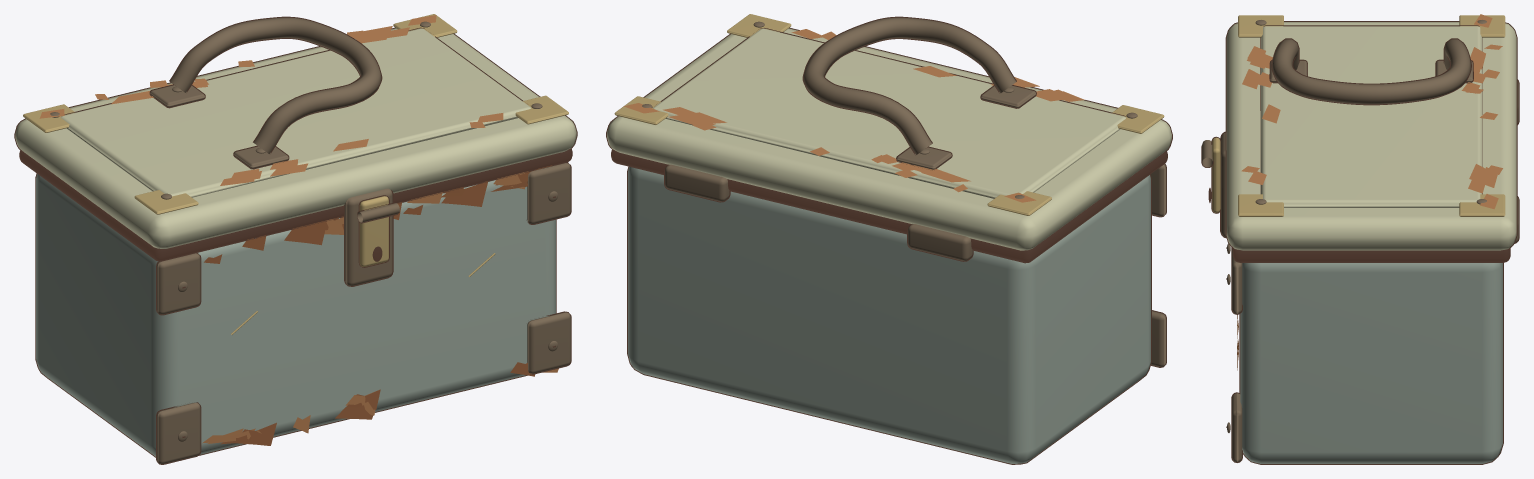
File: prop_10005.glb
3 renders of one model, left to right at view 1: azimuth 30°, elevation 25°; view 2: azimuth 150°, elevation 25°; view 3: azimuth 270°, elevation 25°, orthographic.
Parts seen in each view (by area): view 1: Surface_steel.002, Surface_lid.002, Surface_edge.003, Surface_ink.004, Surface_brass.002, Surface_rustlight.002, Surface_rust.002; view 2: Surface_steel.002, Surface_lid.002, Surface_edge.003, Surface_ink.004, Surface_brass.002, Surface_rustlight.002; view 3: Surface_lid.002, Surface_steel.002, Surface_edge.003, Surface_ink.004, Surface_brass.002, Surface_rustlight.002.
Part boxes in pixels (x1,y1,x2,y2): Surface_steel.002: (36, 174, 555, 456); Surface_lid.002: (15, 28, 576, 248); Surface_edge.003: (50, 17, 570, 463); Surface_ink.004: (14, 16, 577, 464); Surface_brass.002: (23, 14, 568, 334); Surface_rustlight.002: (39, 15, 558, 443); Surface_rust.002: (204, 165, 551, 445); Surface_steel.002: (628, 167, 1150, 463); Surface_lid.002: (607, 28, 1171, 250); Surface_edge.003: (642, 17, 1166, 366); Surface_ink.004: (606, 16, 1172, 464); Surface_brass.002: (614, 14, 1164, 215); Surface_rustlight.002: (624, 29, 1084, 202); Surface_lid.002: (1226, 22, 1516, 250); Surface_steel.002: (1240, 263, 1502, 463); Surface_edge.003: (1202, 20, 1518, 462); Surface_ink.004: (1201, 21, 1519, 464); Surface_brass.002: (1212, 15, 1505, 216); Surface_rustlight.002: (1237, 14, 1502, 368).
Size of the model in its own units: 0.833 by 0.5966 by 0.5413.
